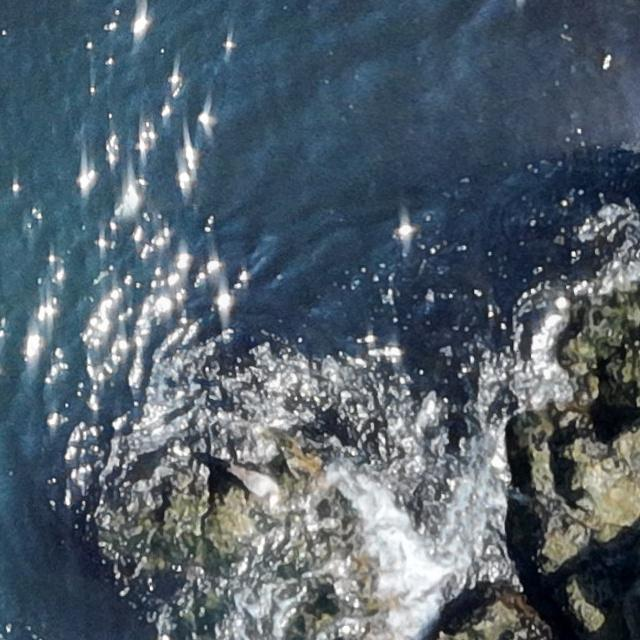umineko: (233, 464, 274, 496)
